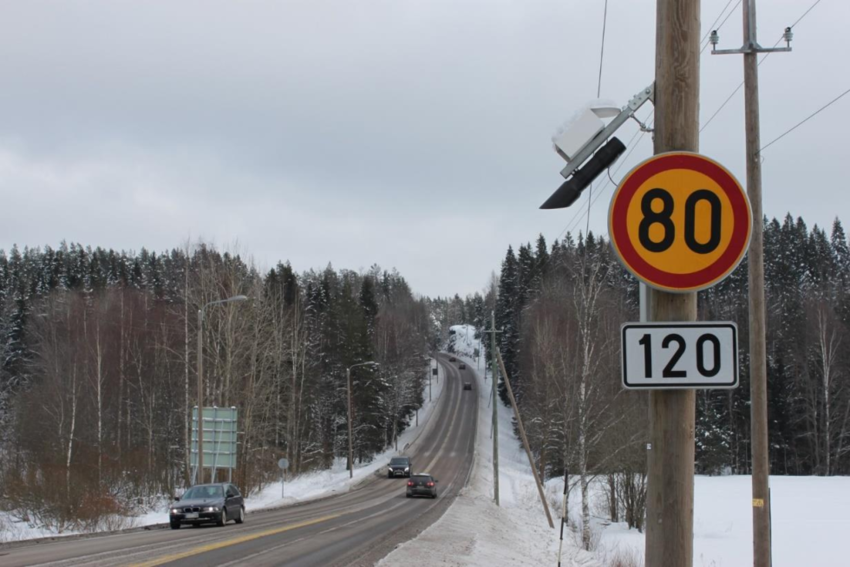light_pole: (636, 7, 714, 564), (726, 17, 788, 567), (190, 301, 213, 496), (482, 314, 504, 504), (342, 370, 360, 486)
